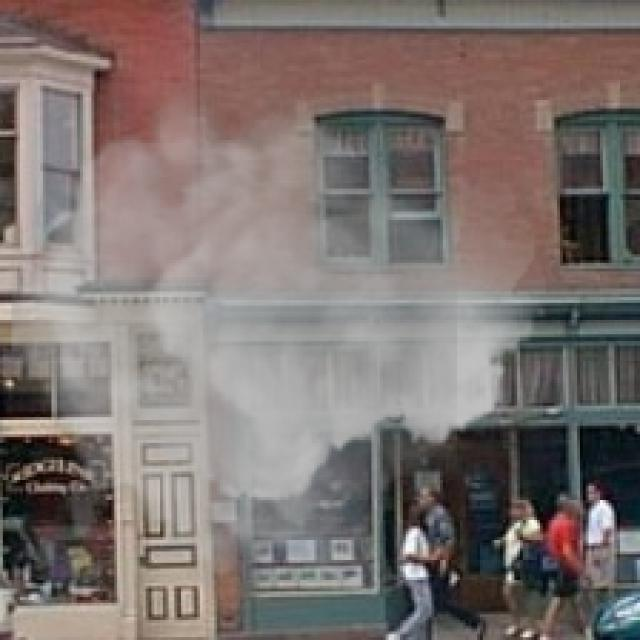smoke: (11, 77, 546, 597)
